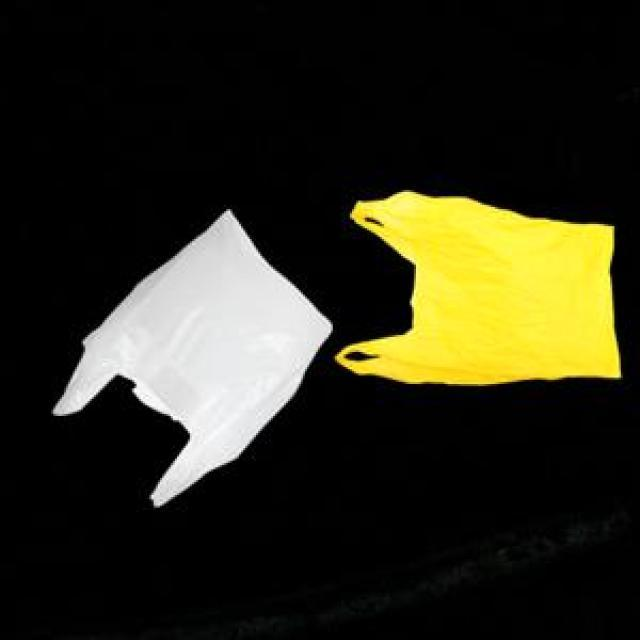Plastic_Bag: (50, 208, 330, 502), (332, 189, 618, 381)
